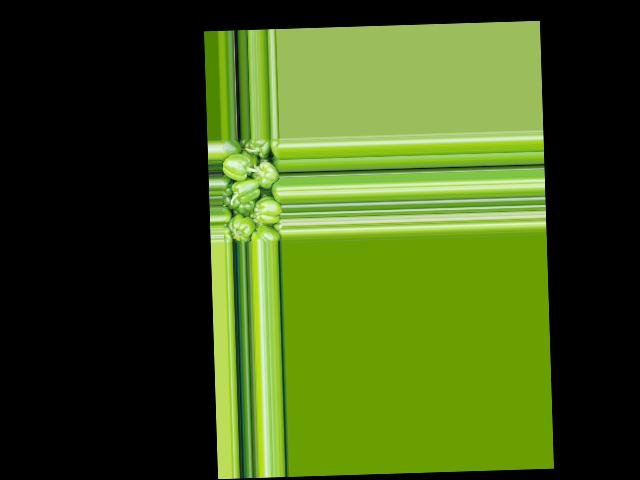bell_pepper: (220, 138, 240, 162)
